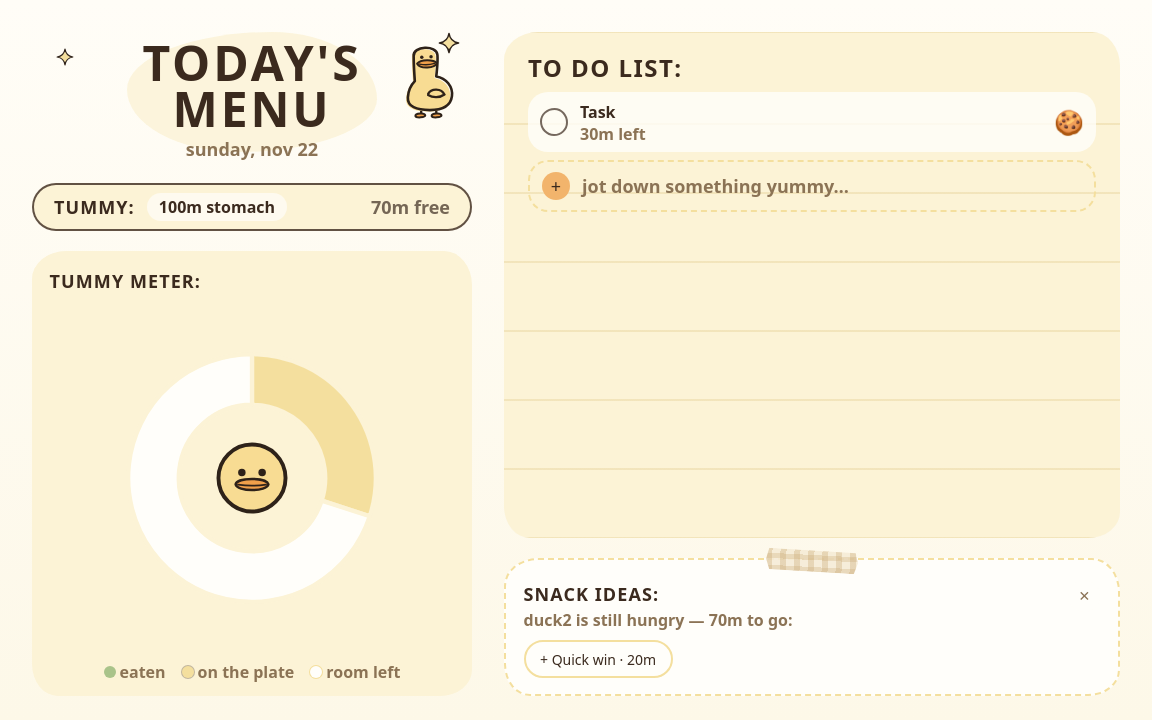
Test case: Fill My Day tray (Invariant 9) › dismisses for the day and stays hidden after dismissal
expect the text "duck2 is still hungry — 70m to go:" is shown: met, box [524, 608, 792, 632]
Click the button named "dismiss fill my day suggestions": (1084, 596) [1068, 580, 1100, 612]
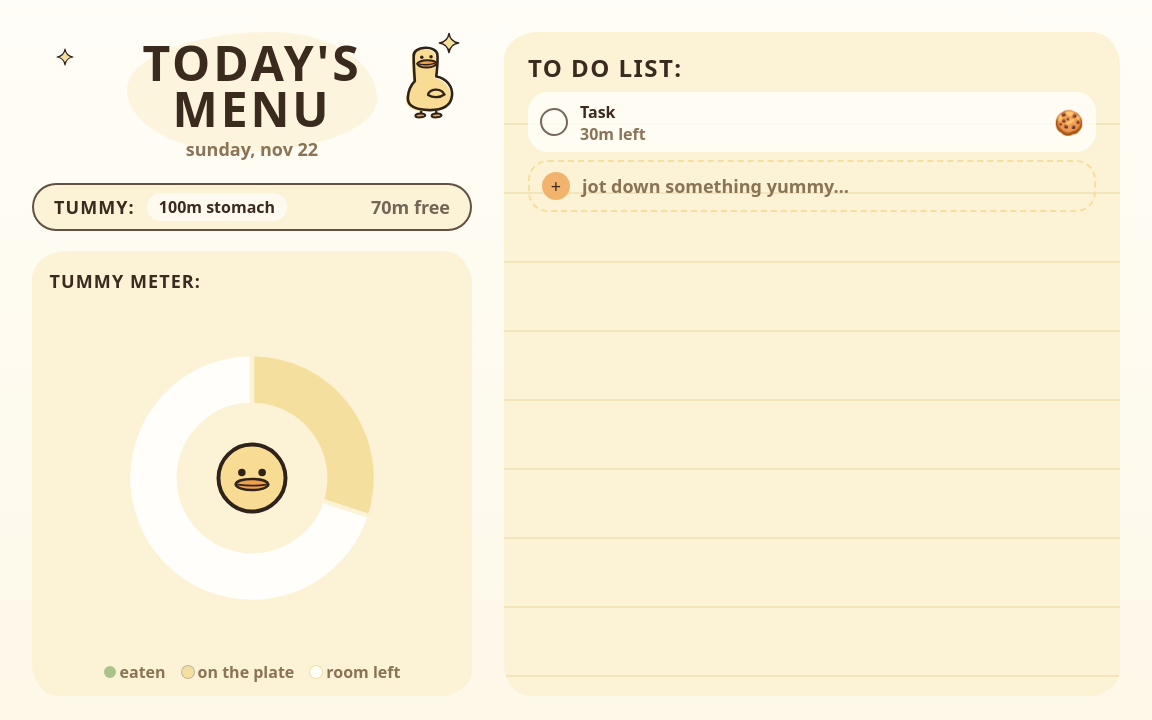
expect the text "duck2 is still hungry" is gone: met
